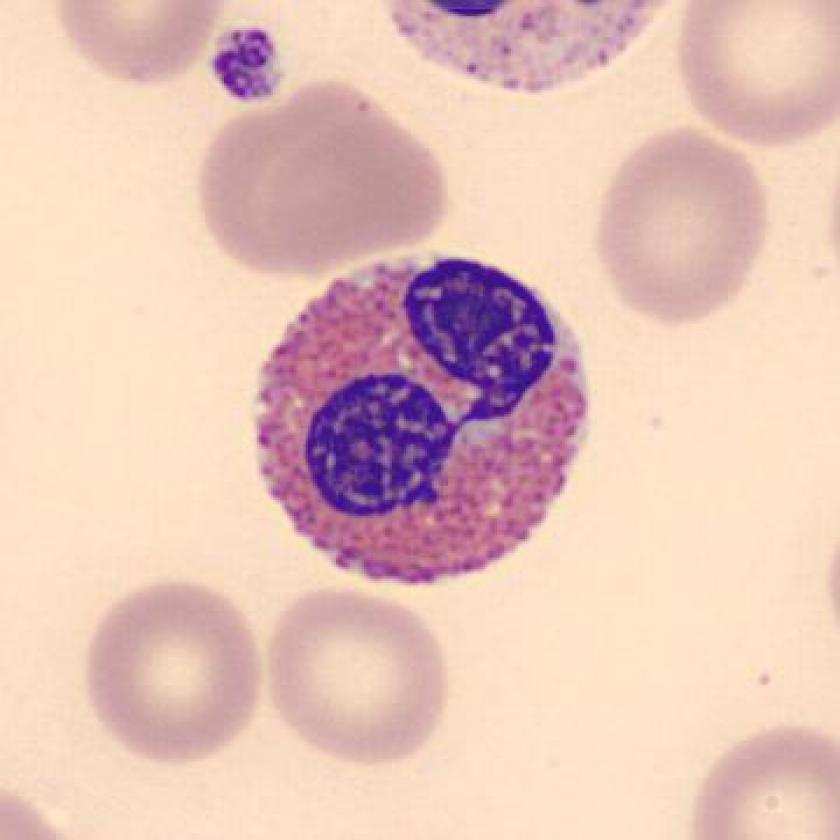eosinophil: (239, 244, 608, 596)
